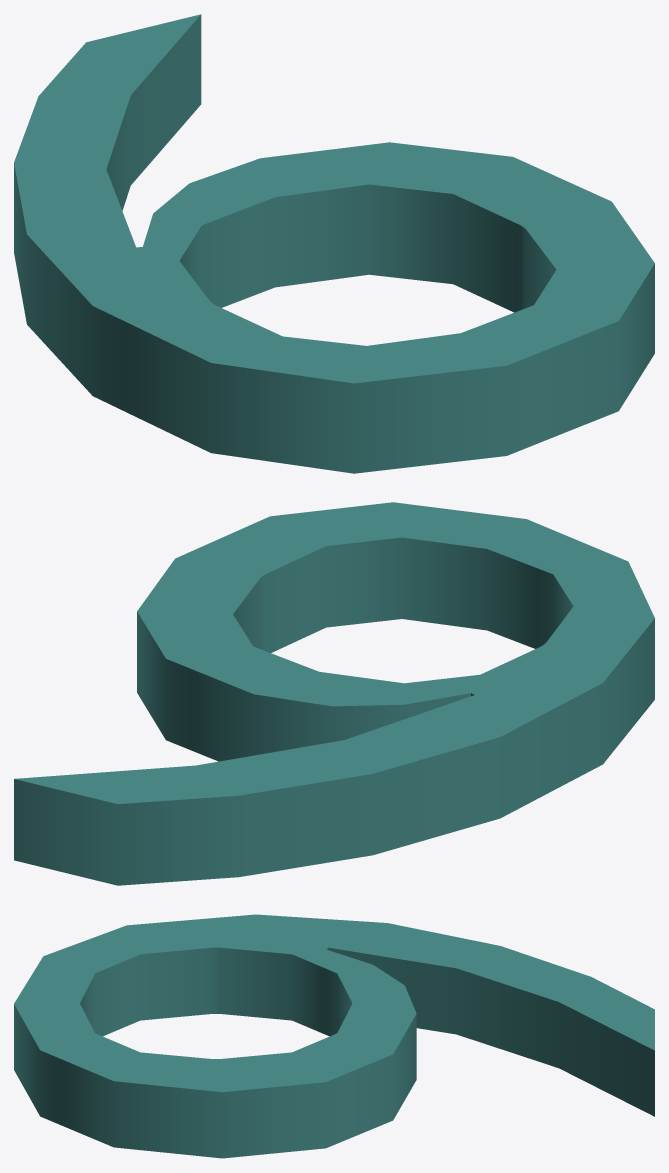
File: Six.fbx
3 renders of one model, top to bottom at view 1: azimuth 30°, elevation 25°; view 2: azimuth 150°, elevation 25°; view 3: azimuth 270°, elevation 25°, orthographic. The views are drawn at different scales.
Parts seen in each view (by area): view 1: Six; view 2: Six; view 3: Six.
Part boxes in pixels (left/top/right/bottom): Six: left=14, top=14, right=654, bottom=473; Six: left=14, top=502, right=654, bottom=885; Six: left=14, top=914, right=654, bottom=1158.
Size of the model in its own units: 0.1445 by 0.0251 by 0.2202.
